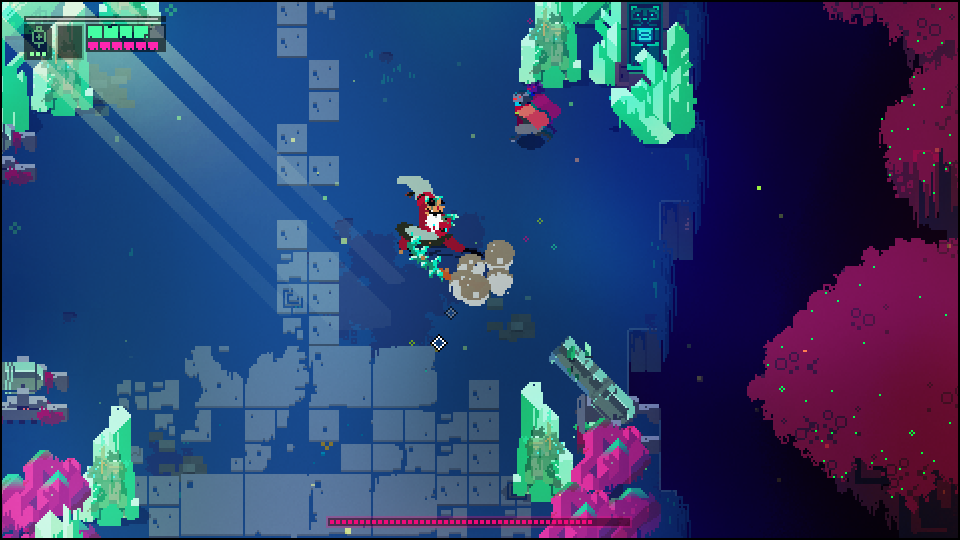hanged_man: (388, 172, 481, 284)
player: (511, 93, 550, 140)
